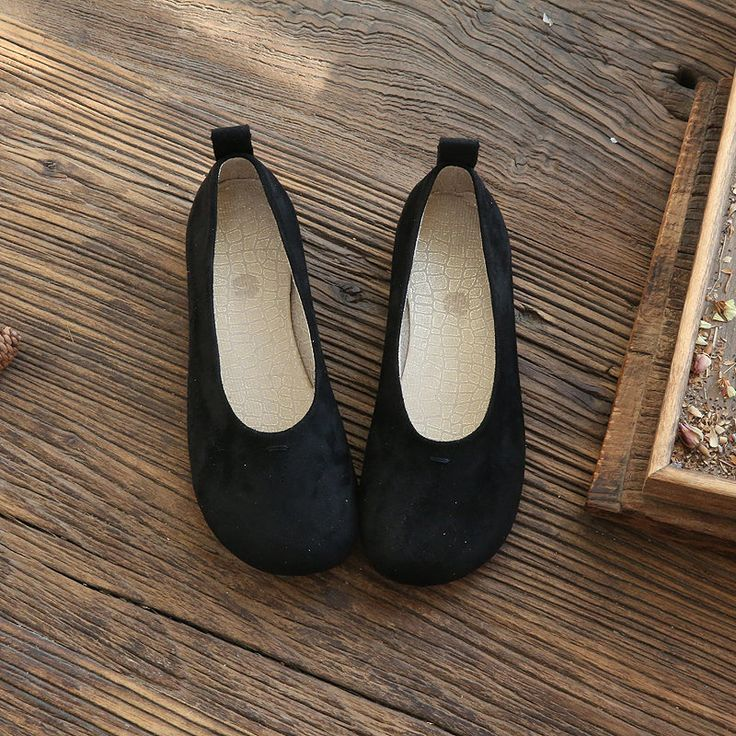gamuza: (187, 125, 525, 583)
